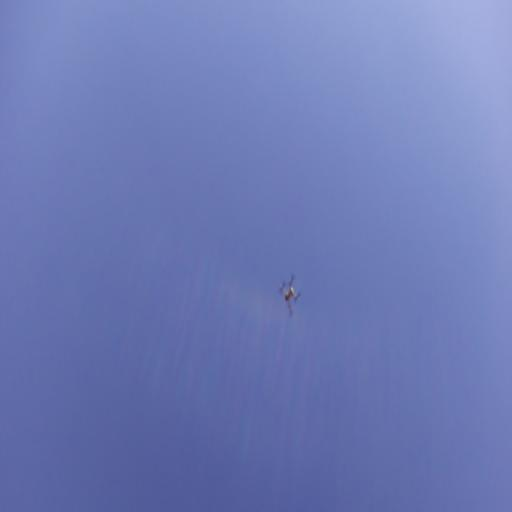drones: (278, 274, 303, 319)
